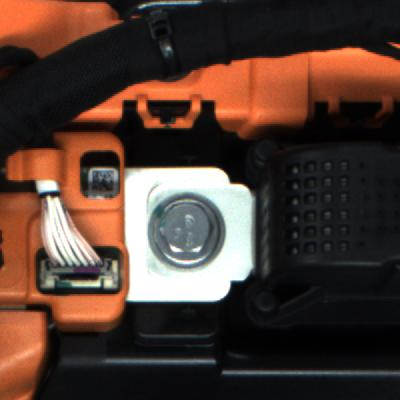nut_b: (140, 181, 237, 277)
